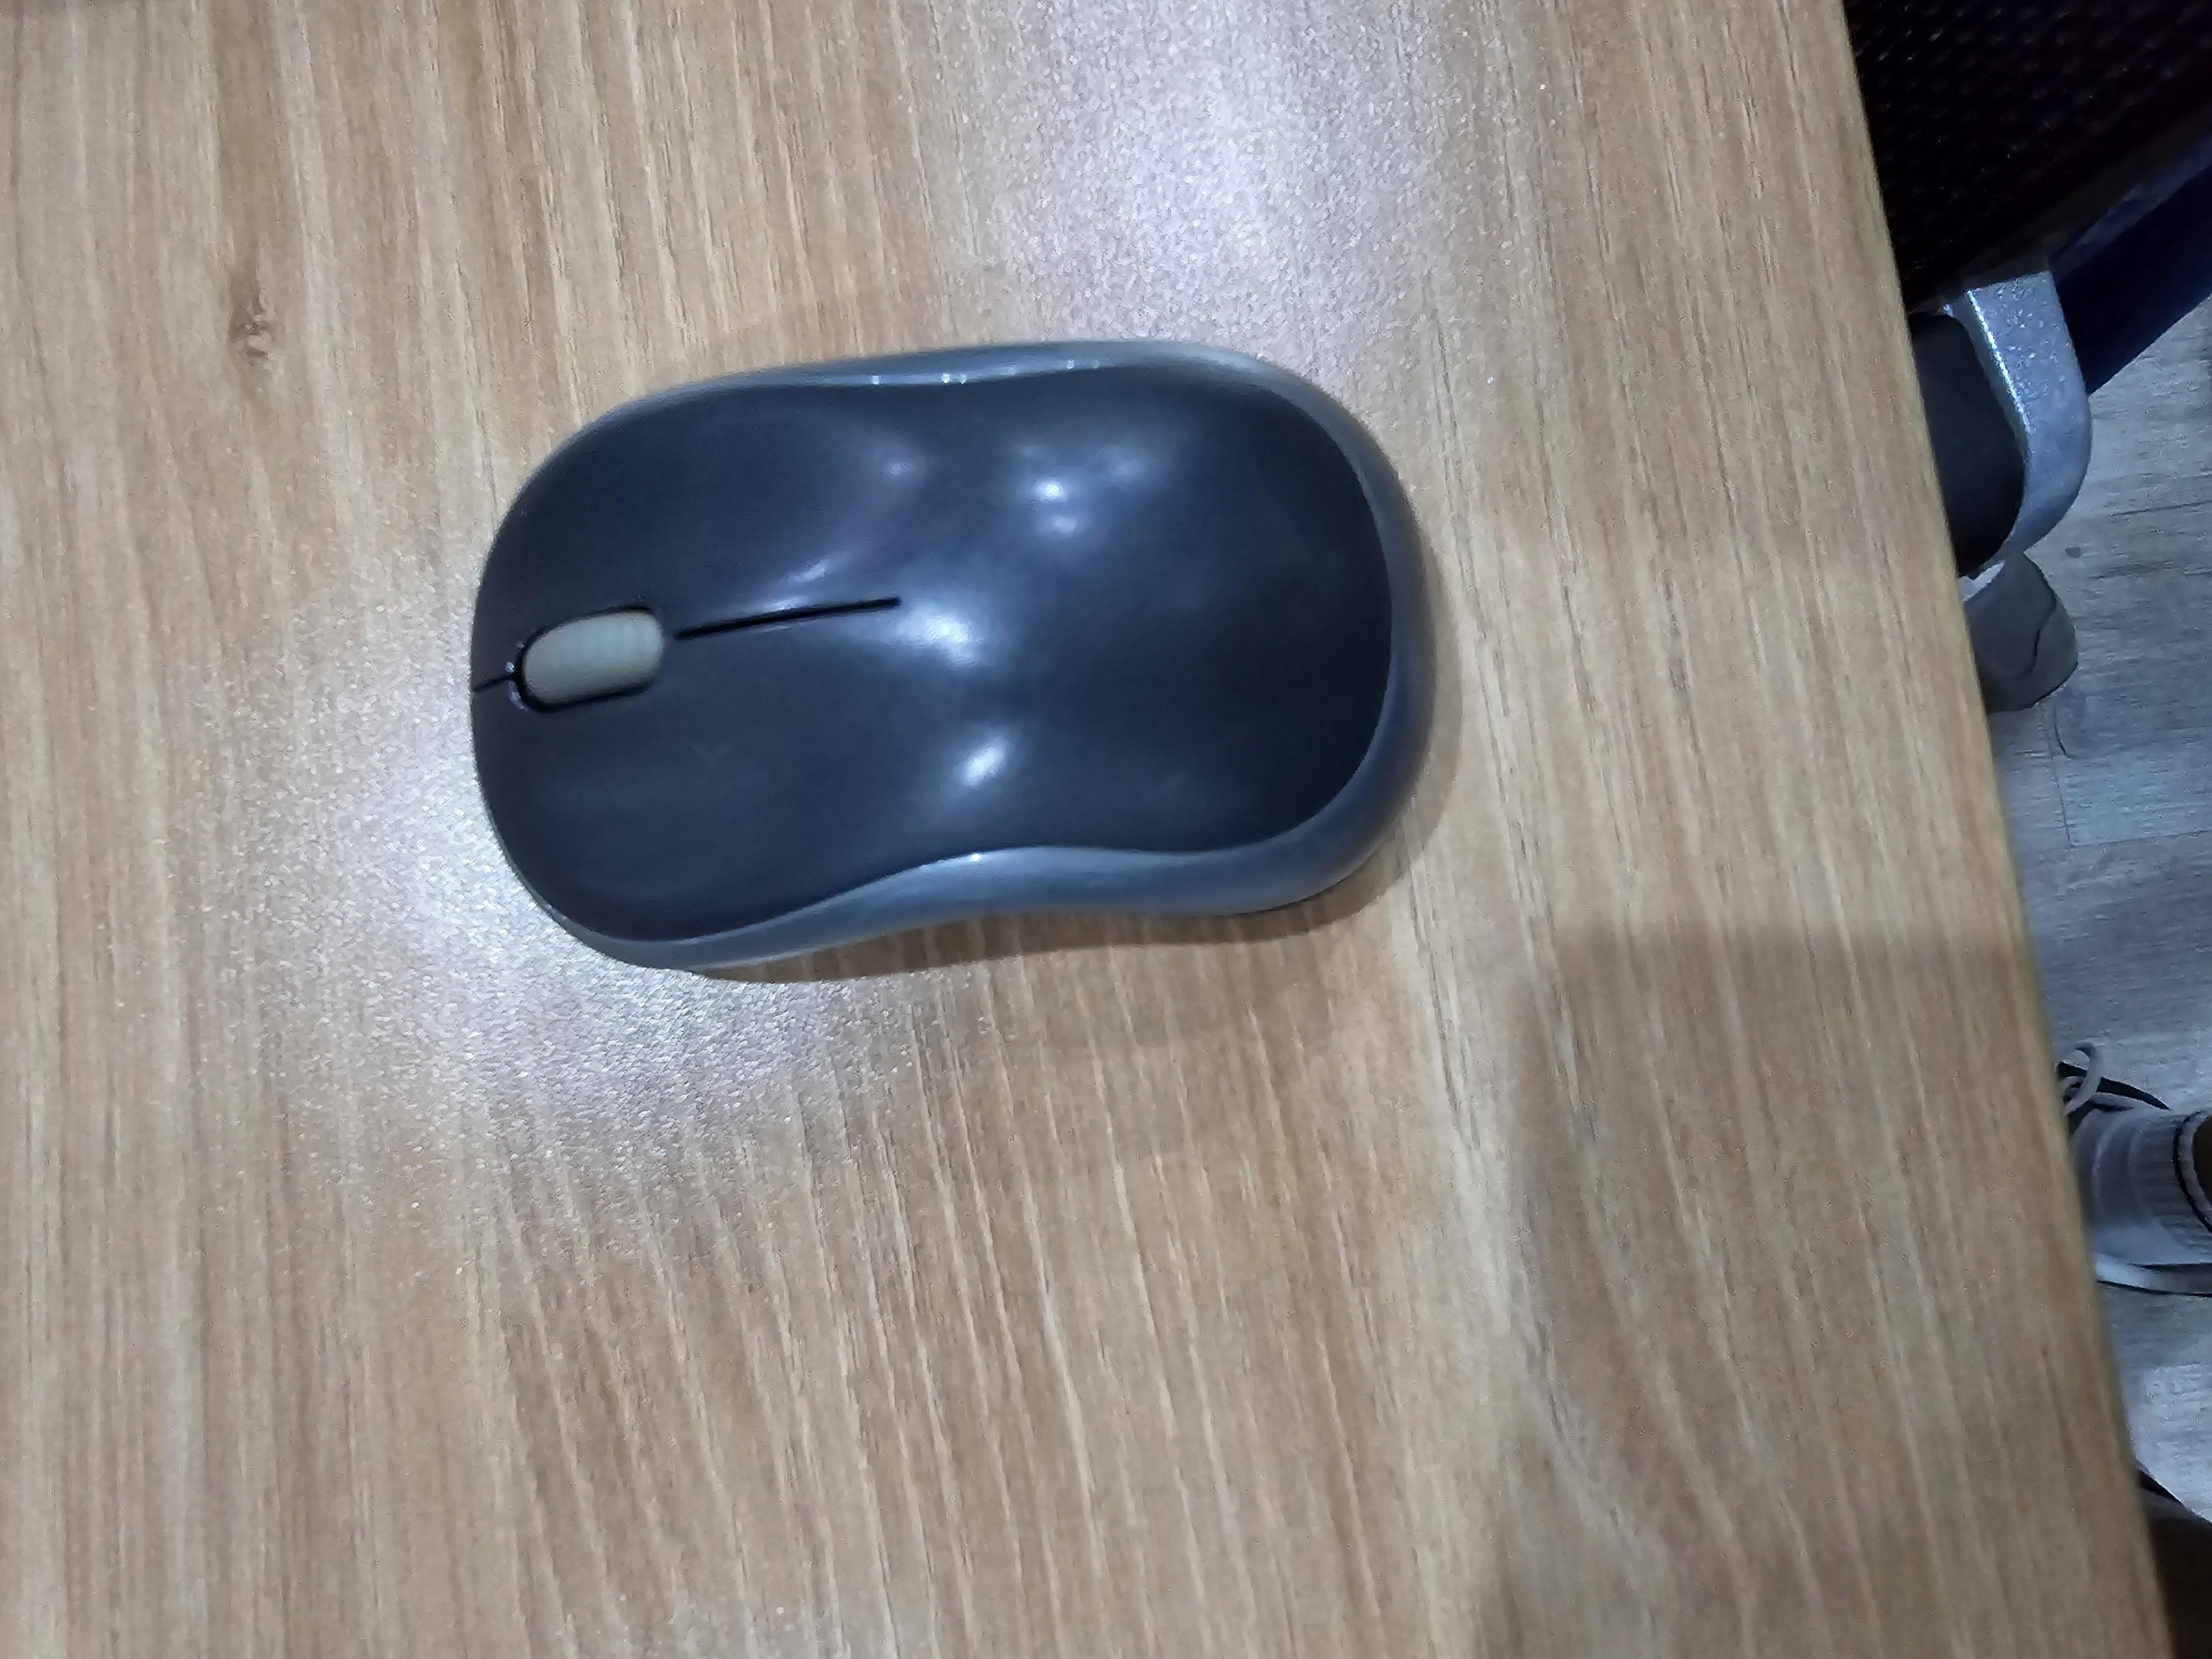mouse: (465, 333, 1440, 976)
